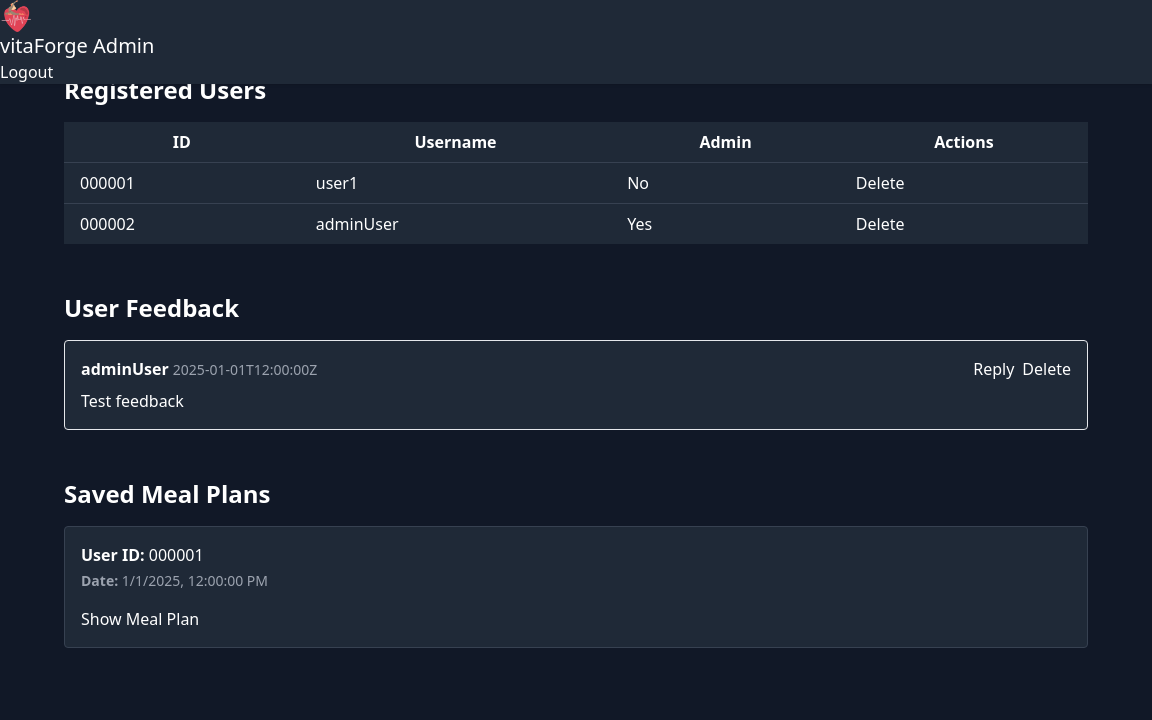
Test: Admin Dashboard Functionalities › opens and closes the meal plan modal
The width and height of the screenshot is (1152, 720).
(page scrolled)
# Open the modal.
Click the button "Show Meal Plan": (140,619) [81,607,199,631]
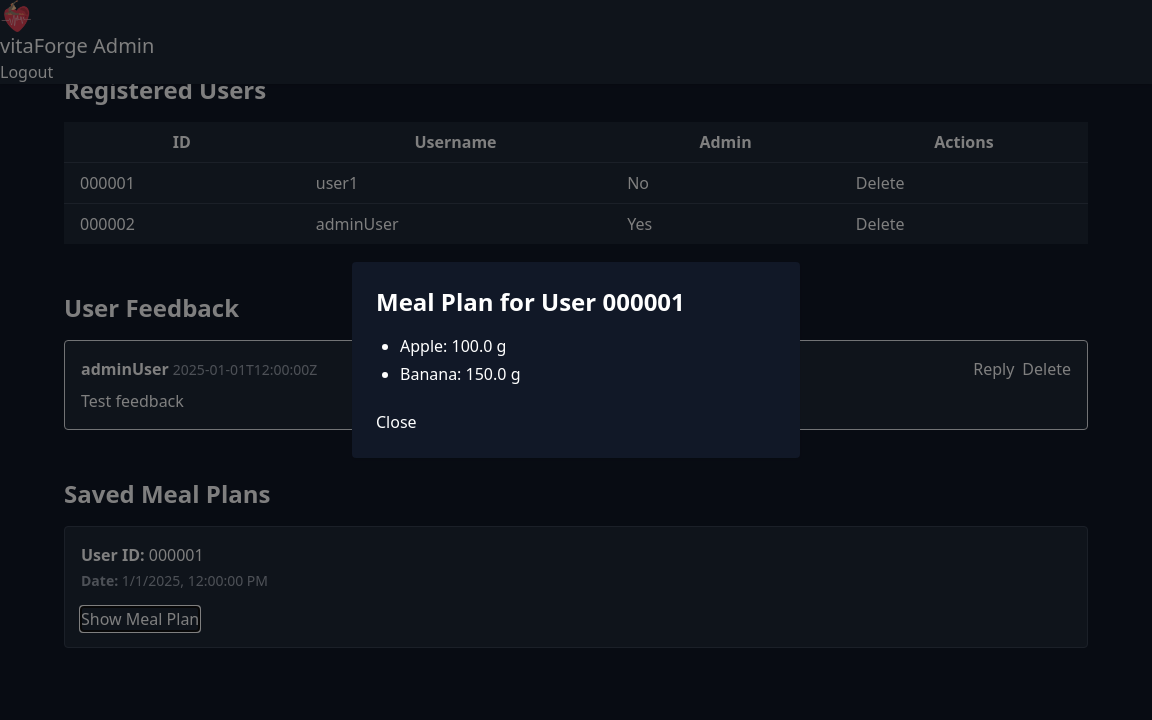
Check: the heading "Meal Plan for User 000001" is shown, box [376,285,685,318]
# Find and click the "Close" button.
Click the button "Close": (396,422) [376,410,417,434]
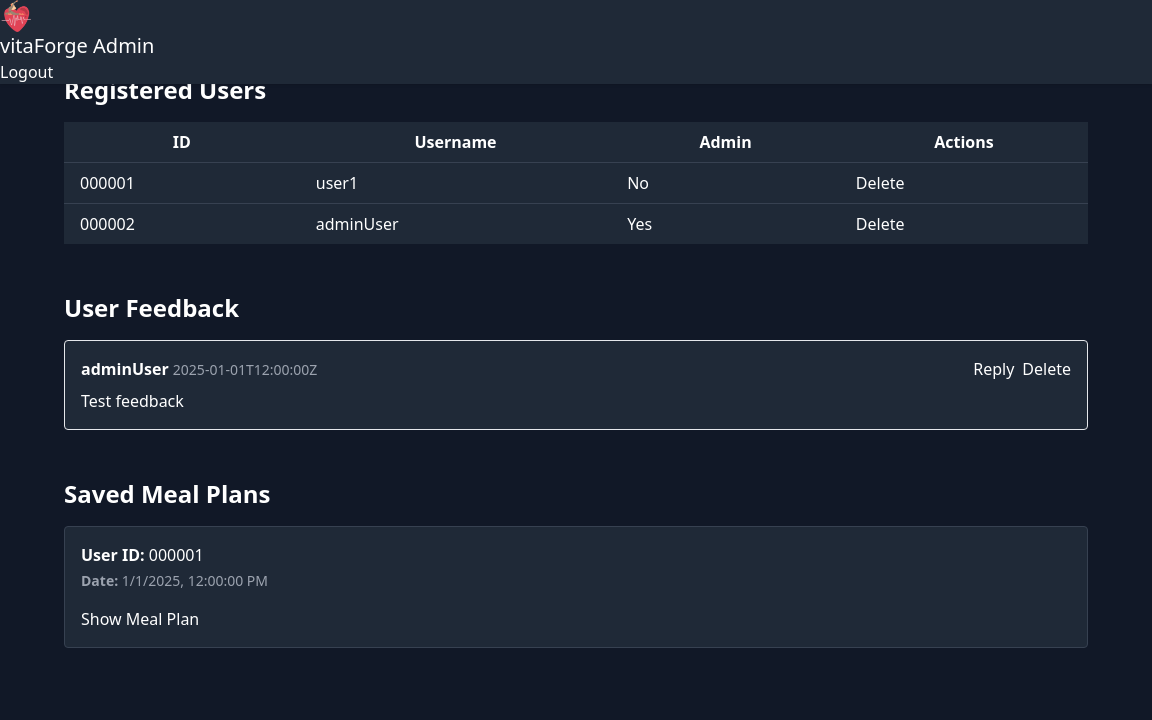
Check: the heading "Meal Plan for User" is gone
